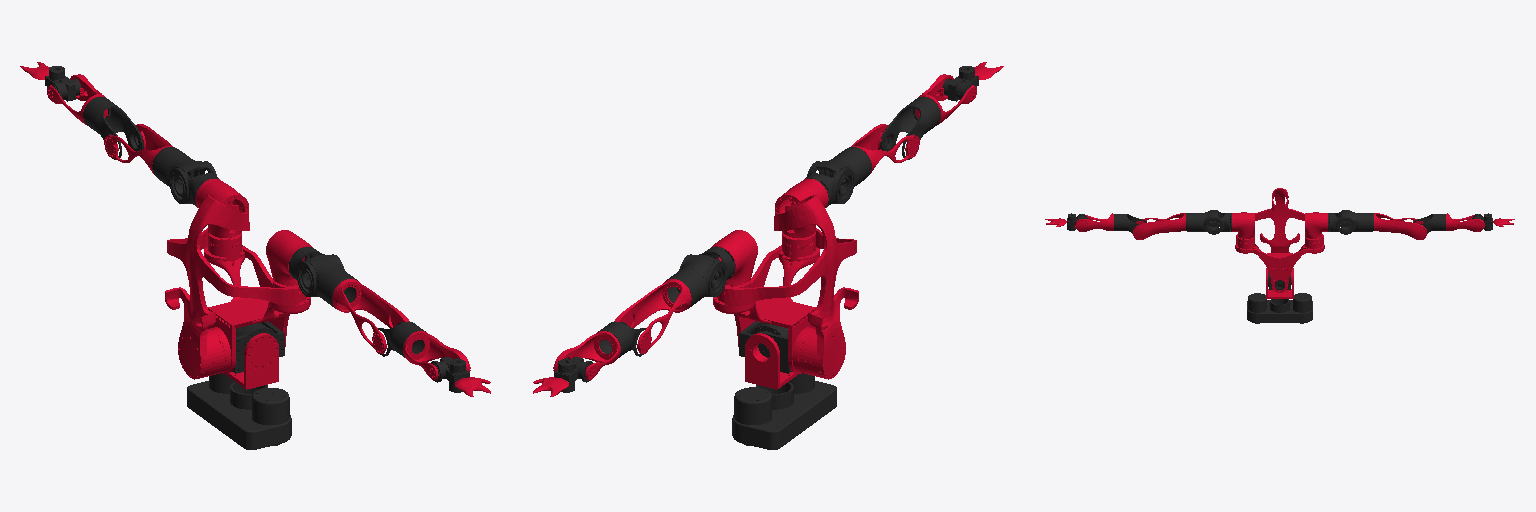
--- What the picture shows (computed from the rendered views, not written in the file) ---
Views: 3 orthographic renders of the robot side by side, from view 1: azimuth 30°, elevation 25°; view 2: azimuth 150°, elevation 25°; view 3: azimuth 270°, elevation 25°.
Robot: red_robot — 36 links, 35 joints (33 revolute, 2 fixed); root link Pelvis_link; default pose: all joints at 0.
Links seen in each view (by area): view 1: Upperbody, Pelvis_link, R_armlink, Waist1, L_elbow, R_shoulder3, R_shoulder1, R_forearm, L_shoulder3, L_armlink, L_shoulder1, Waist2 (+6 smaller); view 2: Upperbody, Pelvis_link, L_armlink, Waist1, R_elbow, L_shoulder3, L_shoulder1, L_forearm, R_shoulder3, R_armlink, R_shoulder1, Waist2 (+6 smaller); view 3: Upperbody, Pelvis_link, R_armlink, L_armlink, R_shoulder1, L_shoulder1, R_shoulder3, L_shoulder3.
Link boxes in pixels (left/top/right/bottom): Upperbody: left=165, top=195, right=310, bottom=379; Pelvis_link: left=187, top=373, right=291, bottom=449; R_armlink: left=332, top=279, right=412, bottom=353; Waist1: left=226, top=333, right=278, bottom=389; L_elbow: left=83, top=97, right=143, bottom=159; R_shoulder3: left=301, top=254, right=357, bottom=308; R_shoulder1: left=266, top=230, right=312, bottom=284; R_forearm: left=403, top=331, right=470, bottom=380; L_shoulder3: left=152, top=147, right=211, bottom=203; L_armlink: left=104, top=124, right=172, bottom=173; L_shoulder1: left=195, top=178, right=248, bottom=237; Waist2: left=232, top=321, right=284, bottom=373; Upperbody: left=713, top=195, right=858, bottom=379; Pelvis_link: left=732, top=373, right=836, bottom=449; L_armlink: left=611, top=279, right=691, bottom=353; Waist1: left=745, top=333, right=797, bottom=389; R_elbow: left=880, top=97, right=940, bottom=159; L_shoulder3: left=666, top=254, right=722, bottom=308; L_shoulder1: left=711, top=230, right=757, bottom=284; L_forearm: left=553, top=331, right=620, bottom=380; R_shoulder3: left=812, top=147, right=871, bottom=203; R_armlink: left=851, top=124, right=919, bottom=173; R_shoulder1: left=775, top=178, right=828, bottom=237; Waist2: left=739, top=321, right=791, bottom=373; Upperbody: left=1235, top=188, right=1324, bottom=292; Pelvis_link: left=1247, top=293, right=1312, bottom=323; R_armlink: left=1133, top=213, right=1185, bottom=239; L_armlink: left=1374, top=213, right=1426, bottom=239; R_shoulder1: left=1232, top=212, right=1254, bottom=238; L_shoulder1: left=1305, top=212, right=1327, bottom=238; R_shoulder3: left=1186, top=211, right=1222, bottom=231; L_shoulder3: left=1337, top=211, right=1373, bottom=231.
Bounding box of the posed robot: 0.2606 × 2.16 × 0.6222 m (x, y, z).
20 mesh visuals loaded from 34 distinct referenced files (20 binary STL); not drawn: 14 (reference not matched to a file when rendering).

The robot description file, URDF, robot "red_robot":
<?xml version="1.0" ?>
<robot
  name="red_robot">
  <link
    name="Pelvis_link">
    <inertial>
      <origin
        xyz="-0.0099622 6.3628E-07 0.012618"
        rpy="0 0 0" />
      <mass
        value="0.90054" />
      <inertia
        ixx="0.0094751"
        ixy="9.2894E-09"
        ixz="-9.4052E-06"
        iyy="0.0022311"
        iyz="-9.4189E-06"
        izz="0.010198" />
    </inertial>
    <visual>
      <origin
        xyz="0 0 0"
        rpy="0 0 0" />
      <geometry>
        <mesh
          filename="package://hpp-timeopt-corba/meshes/Pelvis_link.stl" />
      </geometry>
      <material
        name="">
        <color
          rgba="0.20313 0.20313 0.20313 1" />
      </material>
    </visual>
    <collision>
      <origin
        xyz="0 0 0"
        rpy="0 0 0" />
      <geometry>
        <mesh
          filename="package://hpp-timeopt-corba/meshes/Pelvis_link.stl" />
      </geometry>
    </collision>
  </link>
  <link
    name="HipRoll_R_link">
    <inertial>
      <origin
        xyz="-0.06477 0 0.05149"
        rpy="0 0 0" />
      <mass
        value="2.679" />
      <inertia
        ixx="0.01821"
        ixy="-1.676E-07"
        ixz="-0.0007745"
        iyy="0.03121"
        iyz="-4.53E-09"
        izz="0.2928" />
    </inertial>
    <visual>
      <origin
        xyz="0 0 0"
        rpy="0 0 0" />
      <geometry>
        <mesh
          filename="package://hpp-timeopt-corba/meshes/HipRoll_R_link.stl" />
      </geometry>
      <material
        name="">
        <color
          rgba="0.20313 0.20313 0.20313 1" />
      </material>
    </visual>
  </link>
  <joint
    name="HipRoll_R_Joint"
    type="revolute">
    <origin
      xyz="0 -0.1025 -0.1225"
      rpy="0 0 0" />
    <parent
      link="Pelvis_link" />
    <child
      link="HipRoll_R_link" />
    <axis
      xyz="0 0 1" />
    <limit effort="25.42" lower="-0.2618" upper="0.2618" velocity="1.045"/>
    <dynamics
      damping="10" />
  </joint>
  <link
    name="HipCenter_R_Link">
    <inertial>
      <origin
        xyz="-0.04801 -0.0022 2E-05"
        rpy="0 0 0" />
      <mass
        value="2.67" />
      <inertia
        ixx="0.3553"
        ixy="1.725E-08"
        ixz="-3.236E-06"
        iyy="0.009161"
        iyz="-4.778E-06"
        izz="0.00876" />
    </inertial>
    <visual>
      <origin
        xyz="0 0 0"
        rpy="0 0 0" />
      <geometry>
        <mesh
          filename="package://hpp-timeopt-corba/meshes/HipCenter_R_Link.stl" />
      </geometry>
      <material
        name="">
        <color
          rgba="0.20313 0.20313 0.20313 1" />
      </material>
    </visual>
  </link>
  <joint
    name="HipCenter_R_Joint"
    type="revolute">
    <origin
      xyz="0 0 0"
      rpy="0 0 0" />
    <parent
      link="HipRoll_R_link" />
    <child
      link="HipCenter_R_Link" />
    <axis
      xyz="1 0 0" />
    <limit effort="46.6" lower="-0.5236" upper="0.2618" velocity="2.09"/>
    <dynamics
      damping="10" />
  </joint>
  <link
    name="Thigh_R_Link">
    <inertial>
      <origin
        xyz="-0.00042 -0.00032 -0.18904"
        rpy="0 0 0" />
      <mass
        value="5.366" />
      <inertia
        ixx="0.2987"
        ixy="-4.284E-05"
        ixz="-0.000196"
        iyy="0.7088"
        iyz="0.002406"
        izz="0.00982" />
    </inertial>
    <visual>
      <origin
        xyz="0 0 0"
        rpy="0 0 0" />
      <geometry>
        <mesh
          filename="package://hpp-timeopt-corba/meshes/Thigh_R_Link.stl" />
      </geometry>
      <material
        name="">
        <color
          rgba="0.85938 0.07813 0.23438 1" />
      </material>
    </visual>
  </link>
  <joint
    name="Thigh_R_Joint"
    type="revolute">
    <origin
      xyz="0 0 0"
      rpy="0 0 0" />
    <parent
      link="HipCenter_R_Link" />
    <child
      link="Thigh_R_Link" />
    <axis
      xyz="0 1 0" />
    <limit effort="46.6" lower="-1.6581" upper="0.4014" velocity="2.09"/>
    <dynamics
      damping="10" />
  </joint>
  <link
    name="Knee_R_Link">
    <inertial>
      <origin
        xyz="0.00429 0.00214 -0.1428"
        rpy="0 0 0" />
      <mass
        value="3.883" />
      <inertia
        ixx="0.1506"
        ixy="-2.887E-05"
        ixz="-0.002607"
        iyy="0.5588"
        iyz="-0.001486"
        izz="0.007451" />
    </inertial>
    <visual>
      <origin
        xyz="0 0 0"
        rpy="0 0 0" />
      <geometry>
        <mesh
          filename="package://hpp-timeopt-corba/meshes/Knee_R_Link.stl" />
      </geometry>
      <material
        name="">
        <color
          rgba="0.85938 0.07813 0.23438 1" />
      </material>
    </visual>
  </link>
  <joint
    name="Knee_R_Joint"
    type="revolute">
    <origin
      xyz="0 0 -0.35"
      rpy="0 0 0" />
    <parent
      link="Thigh_R_Link" />
    <child
      link="Knee_R_Link" />
    <axis
      xyz="0 1 0" />
    <limit effort="38.17" lower="-0.0218" upper="1.9722" velocity="6.0"/>
    <dynamics
      damping="10" />
  </joint>
  <link
    name="AnkleCenter_R_Link">
    <inertial>
      <origin
        xyz="-0.00419 -0.0018 -0.0003"
        rpy="0 0 0" />
      <mass
        value="2.51" />
      <inertia
        ixx="0.002857"
        ixy="-1.422E-07"
        ixz="2.222E-06"
        iyy="0.4135"
        iyz="4.611E-06"
        izz="0.003345" />
    </inertial>
    <visual>
      <origin
        xyz="0 0 0"
        rpy="0 0 0" />
      <geometry>
        <mesh
          filename="package://hpp-timeopt-corba/meshes/AnkleCenter_R_Link.stl" />
      </geometry>
      <material
        name="">
        <color
          rgba="0.20313 0.20313 0.20313 1" />
      </material>
    </visual>
  </link>
  <joint
    name="AnkleCenter_R_Joint"
    type="revolute">
    <origin
      xyz="0 0 -0.35"
      rpy="0 0 0" />
    <parent
      link="Knee_R_Link" />
    <child
      link="AnkleCenter_R_Link" />
    <axis
      xyz="0 1 0" />
    <limit effort="25.76" lower="-1.5149" upper="1.7505" velocity="2.1"/>
    <dynamics
      damping="10" />
  </joint>
  <link
    name="AnkleRoll_R_Link">
    <inertial>
      <origin
        xyz="-0.00802 0 -0.08535"
        rpy="0 0 0" />
      <mass
        value="3.464" />
      <inertia
        ixx="0.1466"
        ixy="1.434E-05"
        ixz="-0.004731"
        iyy="0.05808"
        iyz="-2.508E-05"
        izz="0.0238" />
    </inertial>
    <visual>
      <origin
        xyz="0 0 0"
        rpy="0 0 0" />
      <geometry>
        <mesh
          filename="package://hpp-timeopt-corba/meshes/AnkleRoll_R_Link.stl" />
      </geometry>
      <material
        name="">
        <color
          rgba="0.85938 0.07813 0.23438 1" />
      </material>
    </visual>
    <collision>
      <origin
        xyz="0 0 0"
        rpy="0 0 0" />
      <geometry>
        <mesh filename="package://hpp-timeopt-corba/meshes/AnkleRoll_R_Link.stl" scale="1 1 1"/>
      </geometry>
    </collision>
  </link>
  <joint
    name="AnkleRoll_R_Joint"
    type="revolute">
    <origin
      xyz="0 0 0"
      rpy="0 0 0" />
    <parent
      link="AnkleCenter_R_Link" />
    <child
      link="AnkleRoll_R_Link" />
    <axis
      xyz="1 0 0" />
    <limit effort="25.76" lower="-0.3491" upper="0.3491" velocity="2.1"/>
    <dynamics
      damping="10" />
  </joint>
  <joint name="RLeg_effector_fixedjoint" type="fixed">
    <parent link="AnkleRoll_R_Link"/>
    <child link="r_sole"/>
    <origin rpy="0 0 0" xyz="0 0 -0.1451"/>
    <axis xyz="0 0 0"/>
  </joint>
  <link name="r_sole"/>
  <link
    name="HipRoll_L_Link">
    <inertial>
      <origin
        xyz="-0.06477 0 0.05149"
        rpy="0 0 0" />
      <mass
        value="2.679" />
      <inertia
        ixx="0.01821"
        ixy="-1.676E-07"
        ixz="-0.0007745"
        iyy="0.03121"
        iyz="-4.53E-09"
        izz="0.2928" />
    </inertial>
    <visual>
      <origin
        xyz="0 0 0"
        rpy="0 0 0" />
      <geometry>
        <mesh
          filename="package://hpp-timeopt-corba/meshes/HipRoll_L_Link.stl" />
      </geometry>
      <material
        name="">
        <color
          rgba="0.20313 0.20313 0.20313 1" />
      </material>
    </visual>
  </link>
  <joint
    name="HipRoll_L_Joint"
    type="revolute">
    <origin
      xyz="0 0.1025 -0.1225"
      rpy="0 0 0" />
    <parent
      link="Pelvis_link" />
    <child
      link="HipRoll_L_Link" />
    <axis
      xyz="0 0 1" />
    <limit effort="25.42" lower="-0.2618" upper="0.2618" velocity="1.045"/>
    <dynamics
      damping="10" />
  </joint>
  <link
    name="HipCenter_L_Link">
    <inertial>
      <origin
        xyz="-0.04801 0.0022 2E-05"
        rpy="0 0 0" />
      <mass
        value="2.67" />
      <inertia
        ixx="0.3553"
        ixy="1.725E-08"
        ixz="-3.236E-06"
        iyy="0.009161"
        iyz="-4.778E-06"
        izz="0.00876" />
    </inertial>
    <visual>
      <origin
        xyz="0 0 0"
        rpy="0 0 0" />
      <geometry>
        <mesh
          filename="package://hpp-timeopt-corba/meshes/HipCenter_L_Link.stl" />
      </geometry>
      <material
        name="">
        <color
          rgba="0.20313 0.20313 0.20313 1" />
      </material>
    </visual>
  </link>
  <joint
    name="HipCenter_L_Joint"
    type="revolute">
    <origin
      xyz="0 0 0"
      rpy="0 0 0" />
    <parent
      link="HipRoll_L_Link" />
    <child
      link="HipCenter_L_Link" />
    <axis
      xyz="1 0 0" />
    <limit effort="46.6" lower="-0.2618" upper="0.5236" velocity="2.09"/>
    <dynamics
      damping="10" />
  </joint>
  <link
    name="Thigh_L_Link">
    <inertial>
      <origin
        xyz="-0.00042 0.00032 -0.18904"
        rpy="0 0 0" />
      <mass
        value="5.366" />
      <inertia
        ixx="0.2987"
        ixy="-4.284E-05"
        ixz="-0.000196"
        iyy="0.7088"
        iyz="0.002406"
        izz="0.00982" />
    </inertial>
    <visual>
      <origin
        xyz="0 0 0"
        rpy="0 0 0" />
      <geometry>
        <mesh
          filename="package://hpp-timeopt-corba/meshes/Thigh_L_Link.stl" />
      </geometry>
      <material
        name="">
        <color
          rgba="0.85938 0.07813 0.23438 1" />
      </material>
    </visual>

  </link>
  <joint
    name="Thigh_L_Joint"
    type="revolute">
    <origin
      xyz="0 0 0"
      rpy="0 0 0" />
    <parent
      link="HipCenter_L_Link" />
    <child
      link="Thigh_L_Link" />
    <axis
      xyz="0 1 0" />
    <limit effort="46.6" lower="-1.6581" upper="0.4014" velocity="2.09"/>
    <dynamics
      damping="10" />
  </joint>
  <link
    name="Knee_L_Link">
    <inertial>
      <origin
        xyz="0.00429 -0.00214 -0.1428"
        rpy="0 0 0" />
      <mass
        value="3.883" />
      <inertia
        ixx="0.1506"
        ixy="-2.887E-05"
        ixz="-0.002607"
        iyy="0.5588"
        iyz="-0.001486"
        izz="0.007451" />
    </inertial>
    <visual>
      <origin
        xyz="0 0 0"
        rpy="0 0 0" />
      <geometry>
        <mesh
          filename="package://hpp-timeopt-corba/meshes/Knee_L_Link.stl" />
      </geometry>
      <material
        name="">
        <color
          rgba="0.85938 0.07813 0.23438 1" />
      </material>
    </visual>
    <collision>
      <origin
        xyz="0 0 0"
        rpy="0 0 0" />
      <geometry>
        <mesh
          filename="package://hpp-timeopt-corba/meshes/Knee_L_Link.stl" />
      </geometry>
    </collision>
  </link>
  <joint
    name="Knee_L_Joint"
    type="revolute">
    <origin
      xyz="0 0 -0.35"
      rpy="0 0 0" />
    <parent
      link="Thigh_L_Link" />
    <child
      link="Knee_L_Link" />
    <axis
      xyz="0 1 0" />
    <limit effort="38.17" lower="-0.0218" upper="1.9722" velocity="6.0"/>
    <dynamics
      damping="10" />
  </joint>
  <link
    name="AnkleCenter_L_Link">
    <inertial>
      <origin
        xyz="-0.00419 0.0018 -0.0003"
        rpy="0 0 0" />
      <mass
        value="2.51" />
      <inertia
        ixx="0.002857"
        ixy="-1.422E-07"
        ixz="2.222E-06"
        iyy="0.4135"
        iyz="4.611E-06"
        izz="0.003345" />
    </inertial>
    <visual>
      <origin
        xyz="0 0 0"
        rpy="0 0 0" />
      <geometry>
        <mesh
          filename="package://hpp-timeopt-corba/meshes/AnkleCenter_L_Link.stl" />
      </geometry>
      <material
        name="">
        <color
          rgba="0.20313 0.20313 0.20313 1" />
      </material>
    </visual>
    <collision>
      <origin
        xyz="0 0 0"
        rpy="0 0 0" />
      <geometry>
        <mesh
          filename="package://hpp-timeopt-corba/meshes/AnkleCenter_L_Link.stl" />
      </geometry>
    </collision>
  </link>
  <joint
    name="AnkleCenter_L_Joint"
    type="revolute">
    <origin
      xyz="0 0 -0.35"
      rpy="0 0 0" />
    <parent
      link="Knee_L_Link" />
    <child
      link="AnkleCenter_L_Link" />
    <axis
      xyz="0 1 0" />
    <limit effort="25.76" lower="-1.5149" upper="1.7505" velocity="2.1"/>
    <dynamics
      damping="10" />
  </joint>
  <link
    name="AnkleRoll_L_Link">
    <inertial>
      <origin
        xyz="-0.00802 0 -0.08535"
        rpy="0 0 0" />
      <mass
        value="3.464" />
      <inertia
        ixx="0.1466"
        ixy="1.434E-05"
        ixz="-0.004731"
        iyy="0.05808"
        iyz="-2.508E-05"
        izz="0.0238" />
    </inertial>
    <visual>
      <origin
        xyz="0 0 0"
        rpy="0 0 0" />
      <geometry>
        <mesh
          filename="package://hpp-timeopt-corba/meshes/AnkleRoll_L_Link.stl" />
      </geometry>
      <material
        name="">
        <color
          rgba="0.85938 0.07813 0.23438 1" />
      </material>
    </visual>
    <collision>
      <origin
        xyz="0 0 0"
        rpy="0 0 0" />
      <geometry>
        <mesh filename="package://hpp-timeopt-corba/meshes/AnkleRoll_L_Link.stl"/>
      </geometry>
    </collision>
  </link>
  <joint
    name="AnkleRoll_L_Joint"
    type="revolute">
    <origin
      xyz="0 0 0"
      rpy="0 0 0" />
    <parent
      link="AnkleCenter_L_Link" />
    <child
      link="AnkleRoll_L_Link" />
    <axis
      xyz="1 0 0" />
    <limit effort="25.76" lower="-0.3491" upper="0.3491" velocity="2.1"/>
    <dynamics
      damping="10" />
  </joint>
  <joint name="LLeg_effector_fixedjoint" type="fixed">
    <parent link="AnkleRoll_L_Link"/>
    <child link="l_sole"/>
    <origin rpy="0 0 0" xyz="0 0 -0.1451"/>
    <axis xyz="0 0 0"/>
  </joint>
  <link name="l_sole"/>
  <link
    name="Waist1">
    <inertial>
      <origin
        xyz="-0.00001 0.00756 -0.04182"
        rpy="0 0 0" />
      <mass
        value="0.74235" />
      <inertia
        ixx="0.003254680"
        ixy="-0.000000329"
        ixz="-0.000000257"
        iyy="0.001655456"
        iyz="0.000234637"
        izz="0.002701880" />
    </inertial>
    <visual>
      <origin
        xyz="0 0 0"
        rpy="0 0 0" />
      <geometry>
        <mesh
          filename="package://hpp-timeopt-corba/meshes/waist1.stl" />
      </geometry>
      <material
        name="">
        <color
          rgba="0.85938 0.07813 0.23438 1" />
      </material>
    </visual>
    <collision>
      <origin
        xyz="0 0 0"
        rpy="0 0 0" />
      <geometry>
        <mesh
          filename="package://hpp-timeopt-corba/meshes/waist1.stl" />
      </geometry>
    </collision>
  </link>
  <joint
    name="J_waist1"
    type="revolute">
    <origin
      xyz="0 0 0.18"
      rpy="0 0 0" />
    <parent
      link="Pelvis_link" />
    <child
      link="Waist1" />
    <axis
      xyz="0 0 1" />
    <limit
      lower="-2.094"
      upper="2.094"
      effort="300"
      velocity="10" />
   </joint>
   <link
    name="Waist2">
    <inertial>
      <origin
        xyz="-0.00065 0.00063 0.00001"
        rpy="0 0 0" />
      <mass
        value="3.27104" />
      <inertia
        ixx="0.004622862"
        ixy="-0.000031682"
        ixz="0.000000327"
        iyy="0.004974601"
        iyz="0.000002500"
        izz="0.006022159" />
    </inertial>
    <visual>
      <origin
        xyz="0 0 0"
        rpy="0 0 0" />
      <geometry>
        <mesh
          filename="package://hpp-timeopt-corba/meshes/waist2.stl" />
      </geometry>
      <material
        name="">
        <color
          rgba="0.20313 0.20313 0.20313 1" />
      </material>
    </visual>
    <collision>
      <origin
        xyz="0 0 0"
        rpy="0 0 0" />
      <geometry>
        <mesh
          filename="package://hpp-timeopt-corba/meshes/waist2.stl" />
      </geometry>
    </collision>
  </link>
  <joint
    name="J_waist2"
    type="revolute">
    <origin
      xyz="0 0 0"
      rpy="0 0 0" />
    <parent
      link="Waist1" />
    <child
      link="Waist2" />
    <axis
      xyz="0 1 0" />
    <limit
      lower="-2.094"
      upper="2.094"
      effort="300"
      velocity="10" />
  </joint>
<link
    name="Upperbody">
    <inertial>
      <origin
        xyz="-0.04733 0.00045 0.16266"
        rpy="0 0 0" />
      <mass
        value="16.43395" />
      <inertia
        ixx="0.267654041"
        ixy="0.002760359"
        ixz="0.024637907"
        iyy="0.242243423"
        iyz="-0.001029048"
        izz="0.179727804" />
    </inertial>
    <visual>
      <origin
        xyz="0 0 0"
        rpy="0 0 0" />
      <geometry>
        <mesh
          filename="package://hpp-timeopt-corba/meshes/upperbody.stl" />
      </geometry>
      <material
        name="">
        <color
          rgba="0.85938 0.07813 0.23438 1" />
      </material>
    </visual>
    <collision>
      <origin
        xyz="0 0 0"
        rpy="0 0 0" />
      <geometry>
        <mesh
          filename="package://hpp-timeopt-corba/meshes/upperbody.stl" />
      </geometry>
    </collision>
  </link>
  <joint
    name="J_waist3"
    type="revolute">
    <origin
      xyz="0 0 0"
      rpy="0 0 0" />
    <parent
      link="Waist2" />
    <child
      link="Upperbody" />
    <axis
      xyz="-1 0 0" />
    <limit
      lower="-2.094"
      upper="2.094"
      effort="300"
      velocity="10" />
  </joint>
  <link
    name="R_shoulder1">
    <inertial>
      <origin
        xyz="-0.00003 -0.00397 0.06029"
        rpy="0 0 0" />
      <mass
        value="1.6761" />
      <inertia
        ixx="0.001926270"
        ixy="0.000001508"
        ixz="-0.000003670"
        iyy="0.001936480"
        iyz="-0.000079164"
        izz="0.001677429" />
    </inertial>
    <visual>
      <origin
        xyz="0 0 0"
        rpy="0 0 0" />
      <geometry>
        <mesh
          filename="package://hpp-timeopt-corba/meshes/R_shoulder1.stl" />
      </geometry>
      <material
        name="">
        <color
          rgba="0.85938 0.07813 0.23438 1" />
      </material>
    </visual>
    <collision>
      <origin
        xyz="0 0 0"
        rpy="0 0 0" />
      <geometry>
        <mesh
          filename="package://hpp-timeopt-corba/meshes/R_shoulder1.stl" />
      </geometry>
    </collision>
  </link>
  <joint
    name="J_rshoulder1"
    type="revolute">
    <origin
      xyz="0.023 -0.154 0.2275"
      rpy="0 0 0" />
    <parent
      link="Upperbody" />
    <child
      link="R_shoulder1" />
    <axis
      xyz="0 0 1" />
    <limit
      lower="-1.54"
      upper="2.09"
      effort="70"
      velocity="10" />
  </joint>
  <link
    name="R_shoulder2">
    <inertial>
      <origin
        xyz="0.00107 -0.0491 -0.00001"
        rpy="0 0 0" />
      <mass
        value="0.4016" />
      <inertia
        ixx="0.000989903"
        ixy="-0.000028237"
        ixz="-0.000000465"
        iyy="0.000624253"
        iyz="-0.000000133"
        izz="0.001067575" />
    </inertial>
    <visual>
      <origin
        xyz="0 0 0"
        rpy="0 0 0" />
      <geometry>
        <mesh
          filename="package://hpp-timeopt-corba/meshes/R_shoulder2.stl" />
      </geometry>
      <material
        name="">
        <color
          rgba="0.20313 0.20313 0.20313 1" />
      </material>
    </visual>
    <collision>
      <origin
        xyz="0 0 0"
        rpy="0 0 0" />
      <geometry>
        <mesh
          filename="package://hpp-timeopt-corba/meshes/R_shoulder2.stl" />
      </geometry>
    </collision>
  </link>
  <joint
    name="J_rshoulder2"
    type="revolute">
    <origin
      xyz="0 -0.0341 0.065"
      rpy="0 0 0" />
    <parent
      link="R_shoulder1" />
    <child
      link="R_shoulder2" />
    <axis
      xyz="0 -1 0" />
    <limit
      lower="-3.14159"
      upper="3.14159"
      effort="70"
      velocity="10" />
  </joint>
  <link
    name="R_shoulder3">
    <inertial>
      <origin
        xyz="0.00262 -0.04826 0.00023"
        rpy="0 0 0" />
      <mass
        value="2.90141" />
      <inertia
        ixx="0.008441507"
        ixy="0.000365085"
        ixz="-0.000003267"
        iyy="0.002493763"
        iyz="0.000023746"
        izz="0.008296802" />
    </inertial>
    <visual>
      <origin
        xyz="0 0 0"
        rpy="0 0 0" />
      <geometry>
        <mesh
          filename="package://hpp-timeopt-corba/meshes/R_shoulder3.stl" />
      </geometry>
      <material
        name="">
        <color
          rgba="0.20313 0.20313 0.20313 1" />
      </material>
    </visual>
    <collision>
      <origin
        xyz="0 0 0"
        rpy="0 0 0" />
      <geometry>
        <mesh
          filename="package://hpp-timeopt-corba/meshes/R_shoulder3.stl" />
      </geometry>
    </collision>
  </link>
  <joint
    name="J_rshoulder3"
    type="revolute">
    <origin
      xyz="0 -0.115 0"
      rpy="0 0 0" />
    <parent
      link="R_shoulder2" />
    <child
      link="R_shoulder3" />
    <axis
      xyz="-1 0 0" />
    <limit
      lower="-1.9199"
      upper="1.9199"
      effort="70"
      velocity="10" />
  </joint>
  <link
    name="R_armlink">
    <inertial>
      <origin
        xyz="0.01896 -0.11642 -0.0119"
        rpy="0 0 0" />
      <mass
        value="0.43517" />
      <inertia
        ixx="0.002878609"
        ixy="-0.000302586"
        ixz="-0.000036001"
        iyy="0.000730323"
        iyz="-0.000398377"
        izz="0.003117058" />
    </inertial>
    <visual>
      <origin
        xyz="0 0 0"
        rpy="0 0 0" />
      <geometry>
        <mesh
          filename="package://hpp-timeopt-corba/meshes/R_arm.stl" />
      </geometry>
      <material
        name="">
        <color
          rgba="0.85938 0.07813 0.23438 1" />
      </material>
    </visual>
    <collision>
      <origin
        xyz="0 0 0"
        rpy="0 0 0" />
      <geometry>
        <mesh
          filename="package://hpp-timeopt-corba/meshes/R_arm.stl" />
      </geometry>
    </collision>
  </link>
  <joint
    name="J_rarm"
    type="revolute">
    <origin
      xyz="0 -0.1281 0"
      rpy="0 0 0" />
    <parent
      link="R_shoulder3" />
    <child
      link="R_armlink" />
    <axis
      xyz="0 -1 0" />
    <limit
      lower="-3.14159"
      upper="3.14159"
      effort="70"
      velocity="10" />
  </joint>
  <link
    name="R_elbow">
    <inertial>
      <origin
        xyz="-0.00136 -0.05256 0.01764"
        rpy="0 0 0" />
      <mass
        value="1.96511" />
      <inertia
        ixx="0.006375466"
        ixy="-0.000151764"
        ixz="0.000055158"
        iyy="0.001895543"
        iyz="-0.001530917"
        izz="0.005958821" />
    </inertial>
    <visual>
      <origin
        xyz="0 0 0"
        rpy="0 0 0" />
      <geometry>
        <mesh
          filename="package://hpp-timeopt-corba/meshes/R_elbow.stl" />
      </geometry>
      <material
        name="">
        <color
          rgba="0.20313 0.20313 0.20313 1" />
      </material>
    </visual>
    <collision>
      <origin
        xyz="0 0 0"
        rpy="0 0 0" />
      <geometry>
        <mesh
          filename="package://hpp-timeopt-corba/meshes/R_elbow.stl" />
      </geometry>
    </collision>
  </link>
  <joint
    name="J_relbow"
    type="revolute">
    <origin
      xyz="0 -0.207 -0.0325"
      rpy="0 0 0" />
    <parent
      link="R_armlink" />
    <child
      link="R_elbow" />
    <axis
      xyz="1 0 0" />
    <limit
      lower="-2.967"
      upper="3.14159"
      effort="40"
      velocity="10" />
  </joint>
  <link
    name="R_forearm">
    <inertial>
      <origin
        xyz="0.01426 -0.0767 0.00033"
        rpy="0 0 0" />
      <mass
        value="0.30234" />
      <inertia
        ixx="0.001053636"
        ixy="-0.000084568"
        ixz="0.000022117"
        iyy="0.000399479"
        iyz="-0.000019539"
        izz="0.001266418" />
    </inertial>
    <visual>
      <origin
        xyz="0 0 0"
        rpy="0 0 0" />
      <geometry>
        <mesh
          filename="package://hpp-timeopt-corba/meshes/R_forearm.stl" />
      </geometry>
      <material
        name="">
        <color
          rgba="0.85938 0.07813 0.23438 1" />
      </material>
    </visual>
    <collision>
      <origin
        xyz="0 0 0"
        rpy="0 0 0" />
      <geometry>
        <mesh
          filename="package://hpp-timeopt-corba/meshes/R_forearm.stl" />
      </geometry>
    </collision>
  </link>
  <joint
    name="J_rforearm"
    type="revolute">
    <origin
      xyz="0 -0.1244 0.0325"
      rpy="0 0 0" />
    <parent
      link="R_elbow" />
    <child
      link="R_forearm" />
    <axis
      xyz="0 -1 0" />
    <limit
      lower="-3.14159"
      upper="3.14159"
      effort="40"
      velocity="10" />
  </joint>
  <link
    name="R_wrist1">
    <inertial>
      <origin
        xyz="-0.00158 -0.02153 0.00003"
        rpy="0 0 0" />
      <mass
        value="0.70923" />
      <inertia
        ixx="0.000648197"
        ixy="-0.000024218"
        ixz="0.000000263"
        iyy="0.000396376"
        iyz="-0.000000688"
        izz="0.000683187" />
    </inertial>
    <visual>
      <origin
        xyz="0 0 0"
        rpy="0 0 0" />
      <geometry>
        <mesh
          filename="package://hpp-timeopt-corba/meshes/R_wrist1.stl" />
      </geometry>
      <material
        name="">
        <color
          rgba="0.20313 0.20313 0.20313 1" />
      </material>
    </visual>
    <collision>
      <origin
        xyz="0 0 0"
        rpy="0 0 0" />
      <geometry>
        <mesh
          filename="package://hpp-timeopt-corba/meshes/R_wrist1.stl" />
      </geometry>
    </collision>
  </link>
  <joint
    name="J_rwrist1"
    type="revolute">
    <origin
      xyz="0 -0.1451 0"
      rpy="0 0 0" />
    <parent
      link="R_forearm" />
    <child
      link="R_wrist1" />
    <axis
      xyz="1 0 0" />
    <limit
      lower="-3.14159"
      upper="3.14159"
      effort="10"
      velocity="10" />
  </joint>
  <link
    name="R_wrist2">
    <inertial>
      <origin
        xyz="0.00063 -0.04326 0.00178"
        rpy="0 0 0" />
      <mass
        value="2.0" />
      <inertia
        ixx="0.000865450"
        ixy="0.000080148"
        ixz="-0.000004217"
        iyy="0.000696917"
        iyz="0.000017697"
        izz="0.001520823" />
    </inertial>
    <visual>
      <origin
        xyz="0 -0.02 0"
        rpy="0 0 0" />
      <geometry>
        <mesh
          filename="package://hpp-timeopt-corba/meshes/R_wrist2.stl" />
      </geometry>
      <material
        name="">
        <color
          rgba="0.85938 0.07813 0.23438 1" />
      </material>
    </visual>
    <collision>
      <origin
        xyz="0 -0.02 0"
        rpy="0 0 0" />
      <geometry>
        <mesh
          filename="package://hpp-timeopt-corba/meshes/R_wrist2.stl" />
      </geometry>
    </collision>
  </link>
  <joint
    name="J_rwrist2"
    type="revolute">
    <origin
      xyz="0 -0.046 0"
      rpy="0 0 0" />
    <parent
      link="R_wrist1" />
    <child
      link="R_wrist2" />
    <axis
      xyz="0 0 1" />
    <limit
      lower="-2.094"
      upper="2.094"
      effort="10"
      velocity="10" />
  </joint>
  <link
    name="L_shoulder1">
    <inertial>
      <origin
        xyz="-0.00003 0.00397 0.06029"
        rpy="0 0 0" />
      <mass
        value="1.6762" />
      <inertia
        ixx="0.001925606"
        ixy="-0.000001433"
        ixz="-0.000002313"
        iyy="0.001936576"
        iyz="0.000078962"
        izz="0.001678498" />
    </inertial>
    <visual>
      <origin
        xyz="0 0 0"
        rpy="0 0 0" />
      <geometry>
        <mesh
          filename="package://hpp-timeopt-corba/meshes/L_shoulder1.stl" />
      </geometry>
      <material
        name="">
        <color
          rgba="0.85938 0.07813 0.23438 1" />
      </material>
    </visual>
    <collision>
      <origin
        xyz="0 0 0"
        rpy="0 0 0" />
      <geometry>
        <mesh
          filename="package://hpp-timeopt-corba/meshes/L_shoulder1.stl" />
      </geometry>
    </collision>
  </link>
  <joint
    name="J_lshoulder1"
    type="revolute">
    <origin
      xyz="0.023 0.154 0.2275"
      rpy="0 0 0" />
    <parent
      link="Upperbody" />
    <child
      link="L_shoulder1" />
    <axis
      xyz="0 0 1" />
    <limit
      lower="-2.09"
      upper="1.54"
      effort="70"
      velocity="10" />
  </joint>
  <link
    name="L_shoulder2">
    <inertial>
      <origin
        xyz="0.00105 0.0491 0.00072"
        rpy="0 0 0" />
      <mass
        value="0.4016" />
      <inertia
        ixx="0.000990650"
        ixy="0.000028629"
        ixz="0.000004859"
        iyy="0.000624637"
        iyz="0.000011123"
        izz="0.001067212" />
    </inertial>
    <visual>
      <origin
        xyz="0 0 0"
        rpy="0 0 0" />
      <geometry>
        <mesh
          filename="package://hpp-timeopt-corba/meshes/L_shoulder2.stl" />
      </geometry>
      <material
        name="">
        <color
          rgba="0.20313 0.20313 0.20313 1" />
      </material>
    </visual>
    <collision>
      <origin
        xyz="0 0 0"
        rpy="0 0 0" />
      <geometry>
        <mesh
          filename="package://hpp-timeopt-corba/meshes/L_shoulder2.stl" />
      </geometry>
    </collision>
  </link>
  <joint
    name="J_lshoulder2"
    type="revolute">
    <origin
      xyz="0 0.0341 0.065"
      rpy="0 0 0" />
    <parent
      link="L_shoulder1" />
    <child
      link="L_shoulder2" />
    <axis
      xyz="0 1 0" />
    <limit
      lower="-3.14159"
      upper="3.14159"
      effort="70"
      velocity="10" />
  </joint>
  <link
    name="L_shoulder3">
    <inertial>
      <origin
        xyz="0.00262 0.04826 0.00023"
        rpy="0 0 0" />
      <mass
        value="2.90141" />
      <inertia
        ixx="0.008441559"
        ixy="-0.000365084"
        ixz="-0.000002746"
        iyy="0.002493784"
        iyz="-0.000023821"
        izz="0.008296854" />
    </inertial>
    <visual>
      <origin
        xyz="0 0 0"
        rpy="0 0 0" />
      <geometry>
        <mesh
          filename="package://hpp-timeopt-corba/meshes/L_shoulder3.stl" />
      </geometry>
      <material
        name="">
        <color
          rgba="0.20313 0.20313 0.20313 1" />
      </material>
    </visual>
    <collision>
      <origin
        xyz="0 0 0"
        rpy="0 0 0" />
      <geometry>
        <mesh
          filename="package://hpp-timeopt-corba/meshes/L_shoulder3.stl" />
      </geometry>
    </collision>
  </link>
  <joint
    name="J_lshoulder3"
    type="revolute">
    <origin
      xyz="0 0.115 0"
      rpy="0 0 0" />
    <parent
      link="L_shoulder2" />
    <child
      link="L_shoulder3" />
    <axis
      xyz="-1 0 0" />
    <limit
      lower="-1.9199"
      upper="1.9199"
      effort="70"
      velocity="10" />
  </joint>
  <link
    name="L_armlink">
    <inertial>
      <origin
        xyz="0.01896 0.11642 -0.0119"
        rpy="0 0 0" />
      <mass
        value="0.43489" />
      <inertia
        ixx="0.002877598"
        ixy="0.000302757"
        ixz="-0.000036249"
        iyy="0.000779930"
        iyz="-0.000397833"
        izz="0.003115995" />
    </inertial>
    <visual>
      <origin
        xyz="0 0 0"
        rpy="0 0 0" />
      <geometry>
        <mesh
          filename="package://hpp-timeopt-corba/meshes/L_arm.stl" />
      </geometry>
      <material
        name="">
        <color
          rgba="0.85938 0.07813 0.23438 1" />
      </material>
    </visual>
    <collision>
      <origin
        xyz="0 0 0"
        rpy="0 0 0" />
      <geometry>
        <mesh
          filename="package://hpp-timeopt-corba/meshes/L_arm.stl" />
      </geometry>
    </collision>
  </link>
  <joint
    name="J_larm"
    type="revolute">
    <origin
      xyz="0 0.1281 0"
      rpy="0 0 0" />
    <parent
      link="L_shoulder3" />
    <child
      link="L_armlink" />
    <axis
      xyz="0 1 0" />
    <limit
      lower="-3.14159"
      upper="3.14159"
      effort="70"
      velocity="10" />
  </joint>
  <link
    name="L_elbow">
    <inertial>
      <origin
        xyz="-0.00136 0.05256 0.01764"
        rpy="0 0 0" />
      <mass
        value="1.96511" />
      <inertia
        ixx="0.006375466"
        ixy="0.000151764"
        ixz="0.000055158"
        iyy="0.001895543"
        iyz="0.001530917"
        izz="0.005958821" />
    </inertial>
    <visual>
      <origin
        xyz="0 0 0"
        rpy="0 0 0" />
      <geometry>
        <mesh
          filename="package://hpp-timeopt-corba/meshes/L_elbow.stl" />
      </geometry>
      <material
        name="">
        <color
          rgba="0.20313 0.20313 0.20313 1" />
      </material>
    </visual>
    <collision>
      <origin
        xyz="0 0 0"
        rpy="0 0 0" />
      <geometry>
        <mesh
          filename="package://hpp-timeopt-corba/meshes/L_elbow.stl" />
      </geometry>
    </collision>
  </link>
  <joint
    name="J_lelbow"
    type="revolute">
    <origin
      xyz="0 0.207 -0.0325"
      rpy="0 0 0" />
    <parent
      link="L_armlink" />
    <child
      link="L_elbow" />
    <axis
      xyz="1 0 0" />
    <limit
      lower="-3.14159"
      upper="2.8"
      effort="40"
      velocity="10" />
  </joint>
  <link
    name="L_forearm">
    <inertial>
      <origin
        xyz="0.01426 0.0767 0.00033"
        rpy="0 0 0" />
      <mass
        value="0.30234" />
      <inertia
        ixx="0.001053636"
        ixy="0.000084568"
        ixz="0.000022117"
        iyy="0.000399479"
        iyz="0.000019539"
        izz="0.001266418" />
    </inertial>
    <visual>
      <origin
        xyz="0 0 0"
        rpy="0 0 0" />
      <geometry>
        <mesh
          filename="package://hpp-timeopt-corba/meshes/L_forearm.stl" />
      </geometry>
      <material
        name="">
        <color
          rgba="0.85938 0.07813 0.23438 1" />
      </material>
    </visual>
    <collision>
      <origin
        xyz="0 0 0"
        rpy="0 0 0" />
      <geometry>
        <mesh
          filename="package://hpp-timeopt-corba/meshes/L_forearm.stl" />
      </geometry>
    </collision>
  </link>
  <joint
    name="J_lforearm"
    type="revolute">
    <origin
      xyz="0 0.1244 0.0325"
      rpy="0 0 0" />
    <parent
      link="L_elbow" />
    <child
      link="L_forearm" />
    <axis
      xyz="0 1 0" />
    <limit
      lower="-3.14159"
      upper="3.14159"
      effort="40"
      velocity="10" />
  </joint>
  <link
    name="L_wrist1">
    <inertial>
      <origin
        xyz="-0.00158 0.02153 0.00003"
        rpy="0 0 0" />
      <mass
        value="0.70923" />
      <inertia
        ixx="0.000648197"
        ixy="0.000024218"
        ixz="-0.000000263"
        iyy="0.000396376"
        iyz="0.000000688"
        izz="0.000683187" />
    </inertial>
    <visual>
      <origin
        xyz="0 0 0"
        rpy="0 0 0" />
      <geometry>
        <mesh
          filename="package://hpp-timeopt-corba/meshes/L_wrist1.stl" />
      </geometry>
      <material
        name="">
        <color
          rgba="0.20313 0.20313 0.20313 1" />
      </material>
    </visual>
    <collision>
      <origin
        xyz="0 0 0"
        rpy="0 0 0" />
      <geometry>
        <mesh
          filename="package://hpp-timeopt-corba/meshes/L_wrist1.stl" />
      </geometry>
    </collision>
  </link>
  <joint
    name="J_lwrist1"
    type="revolute">
    <origin
      xyz="0 0.1451 0"
      rpy="0 0 0" />
    <parent
      link="L_forearm" />
    <child
      link="L_wrist1" />
    <axis
      xyz="1 0 0" />
    <limit
      lower="-3.14159"
      upper="3.14159"
      effort="10"
      velocity="10" />
  </joint>
  <link
    name="L_wrist2">
    <inertial>
      <origin
        xyz="0.00063 0.04326 0.00178"
        rpy="0 0 0" />
      <mass
        value="2.0" />
      <inertia
        ixx="0.000865450"
        ixy="-0.000080148"
        ixz="-0.000004217"
        iyy="0.000696917"
        iyz="-0.000017697"
        izz="0.001520823" />
    </inertial>
    <visual>
      <origin
        xyz="0 0.02 0"
        rpy="0 0 0" />
      <geometry>
        <mesh
          filename="package://hpp-timeopt-corba/meshes/L_wrist2.stl" />
      </geometry>
      <material
        name="">
        <color
          rgba="0.85938 0.07813 0.23438 1" />
      </material>
    </visual>
    <collision>
      <origin
        xyz="0 0.02 0"
        rpy="0 0 0" />
      <geometry>
        <mesh
          filename="package://hpp-timeopt-corba/meshes/L_wrist2.stl" />
      </geometry>
    </collision>
  </link>
  <joint
    name="J_lwrist2"
    type="revolute">
    <origin
      xyz="0 0.046 0"
      rpy="0 0 0" />
    <parent
      link="L_wrist1" />
    <child
      link="L_wrist2" />
    <axis
      xyz="0 0 1" />
    <limit
      lower="-2.094"
      upper="2.094"
      effort="10"
      velocity="10" />
  </joint>
  <link
    name="Neck">
    <inertial>
      <origin
        xyz="0 -0.00247 0.02752"
        rpy="0 0 0" />
      <mass
        value="0.37746" />
      <inertia
        ixx="0.000226034"
        ixy="0.000000001"
        ixz="-0.000000048"
        iyy="0.000105591"
        iyz="-0.000000210"
        izz="0.000226142" />
    </inertial>
    <visual>
      <origin
        xyz="0 0 0"
        rpy="0 0 0" />
      <geometry>
        <mesh
          filename="package://hpp-timeopt-corba/meshes/neck.stl" />
      </geometry>
      <material
        name="">
        <color
          rgba="0.20313 0.20313 0.20313 1" />
      </material>
    </visual>
    <collision>
      <origin
        xyz="0 0 0"
        rpy="0 0 0" />
      <geometry>
        <mesh
          filename="package://hpp-timeopt-corba/meshes/neck.stl" />
      </geometry>
    </collision>
  </link>
  <joint
    name="J_neck"
    type="revolute">
    <origin
      xyz="-0.036 0 0.3795"
      rpy="0 0 0" />
    <parent
      link="Upperbody" />
    <child
      link="Neck" />
    <axis
      xyz="0 0 1" />
    <limit
      lower="-2.094"
      upper="2.094"
      effort="10"
      velocity="10" />
  </joint>
  <link
    name="Head">
    <inertial>
      <origin
        xyz="0.01311 0.00002 0.12168"
        rpy="0 0 0" />
      <mass
        value="2.712" />
      <inertia
        ixx="0.008489520"
        ixy="-0.000001032"
        ixz="-0.000950888"
        iyy="0.010703088"
        iyz="0.000004728"
        izz="0.007440684" />
    </inertial>
    <visual>
      <origin
        xyz="0 0 0"
        rpy="0 0 0" />
      <geometry>
        <mesh
          filename="package://hpp-timeopt-corba/meshes/head.stl" />
      </geometry>
      <material
        name="">
        <color
          rgba="0.85938 0.07813 0.23438 1" />
      </material>
    </visual>
    <collision>
      <origin
        xyz="0 0 0"
        rpy="0 0 0" />
      <geometry>
        <mesh
          filename="package://hpp-timeopt-corba/meshes/head.stl" />
      </geometry>
    </collision>
  </link>
  <joint
    name="J_head"
    type="revolute">
    <origin
      xyz="0 0 0.0275"
      rpy="0 0 0" />
    <parent
      link="Neck" />
    <child
      link="Head" />
    <axis
      xyz="0 1 0" />
    <limit
      lower="-2.094"
      upper="2.094"
      effort="10"
      velocity="10" />
  </joint>
  </robot>
